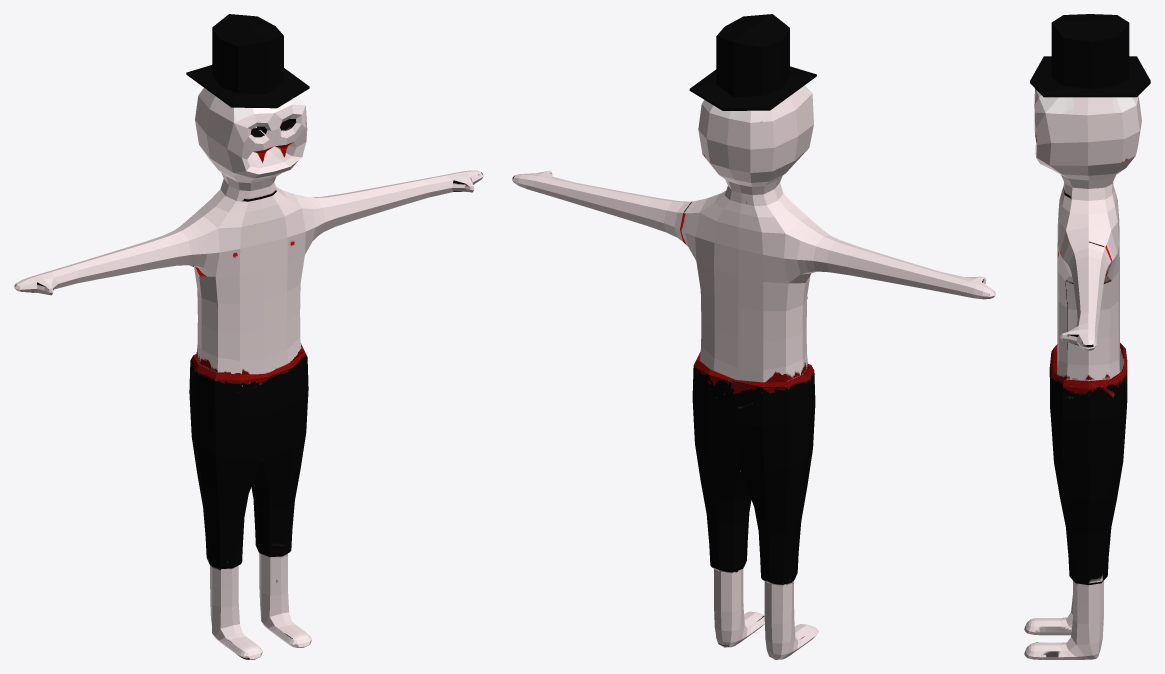
Rendered from EnemyModelEmptyFixed1.fbx.
3 views of the same model, side by side, from view 1: azimuth 30°, elevation 25°; view 2: azimuth 150°, elevation 25°; view 3: azimuth 270°, elevation 25° (orthographic). The views are drawn at different scales.
Parts seen in each view (by area): view 1: Cube, Cube.001; view 2: Cube, Cube.001; view 3: Cube, Cube.001.
Part boxes in pixels (<box>): Cube: <box>14,88,483,659</box>; Cube.001: <box>186,14,309,108</box>; Cube: <box>512,85,995,659</box>; Cube.001: <box>689,14,816,110</box>; Cube: <box>1024,89,1141,659</box>; Cube.001: <box>1030,14,1150,97</box>.
Bounding box in the file's own units: 215 × 265 × 48.75.
2 materials, 2 textured.
